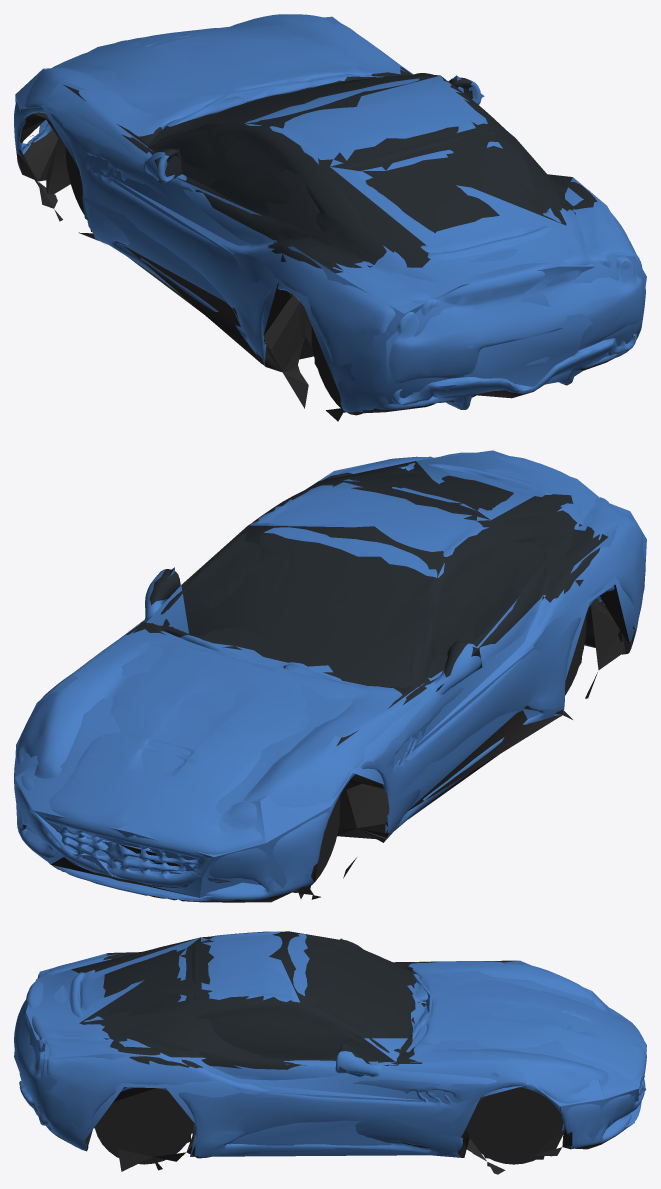
The model's file is ferrari-california-t.glb.
3 views of the same model, one above another, from view 1: azimuth 30°, elevation 25°; view 2: azimuth 150°, elevation 25°; view 3: azimuth 270°, elevation 25° (orthographic). The views are drawn at different scales.
Parts seen in each view (by area): view 1: body, far; view 2: body, far; view 3: body, far.
Boxes of the visible parts, x1,y1,x2,y2 form: body: (14,14,645,421); far: (15,16,646,417); body: (14,452,645,902); far: (15,450,646,898); body: (14,931,646,1174); far: (14,931,646,1159).
Bounding box in the file's own units: 2.07 × 1.38 × 4.6.
